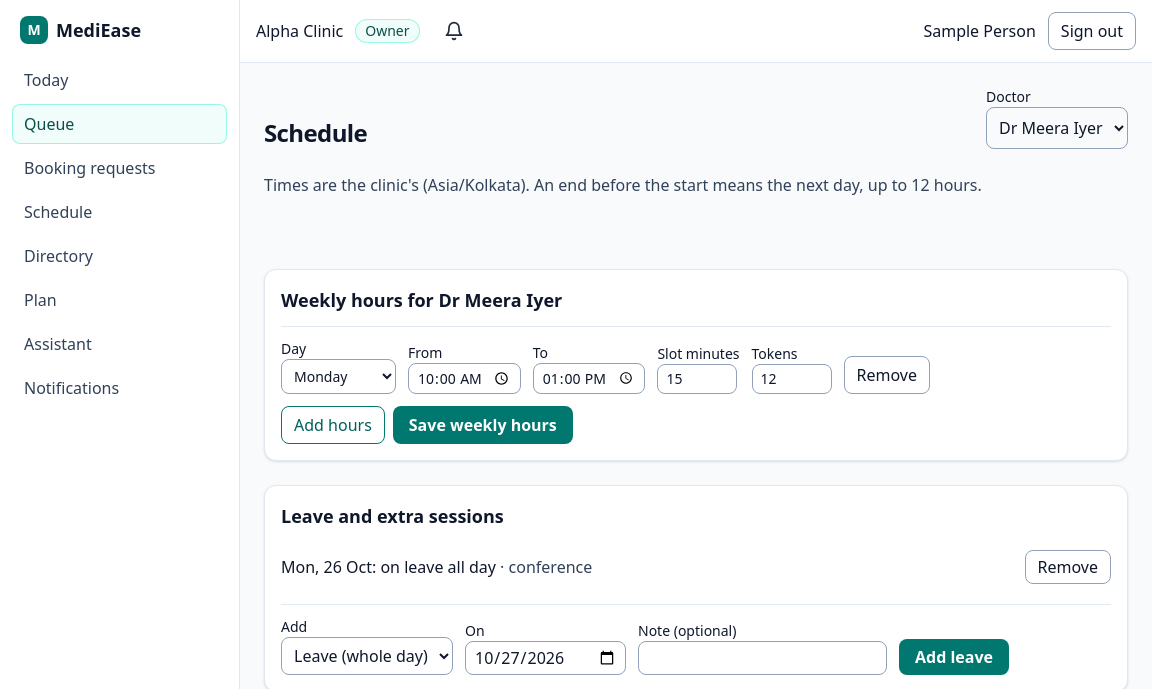
it: schedule settings (D31, FR-APT-01) › R16: edits the week and saves it whole; booked sessions kept are listed
Replace the text in the time field labelled "To" with "14:00" at (589, 379), box 533,363 -> 645,394
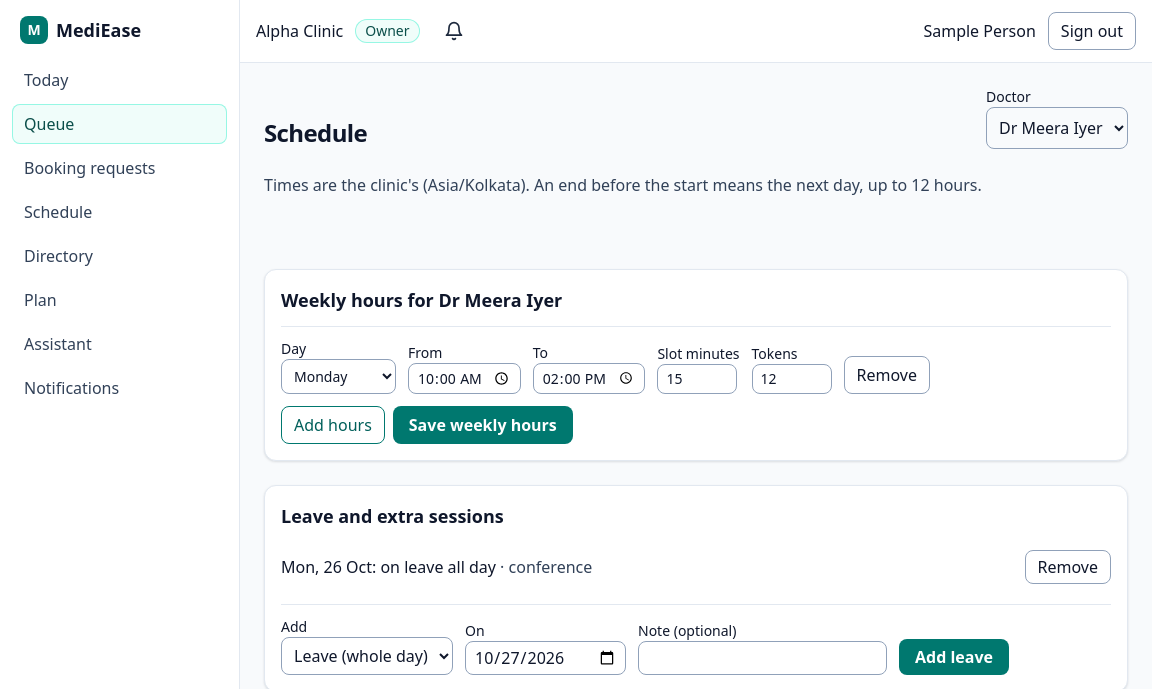
Click the button "Add hours" at (333, 425), box 281,406 -> 385,444
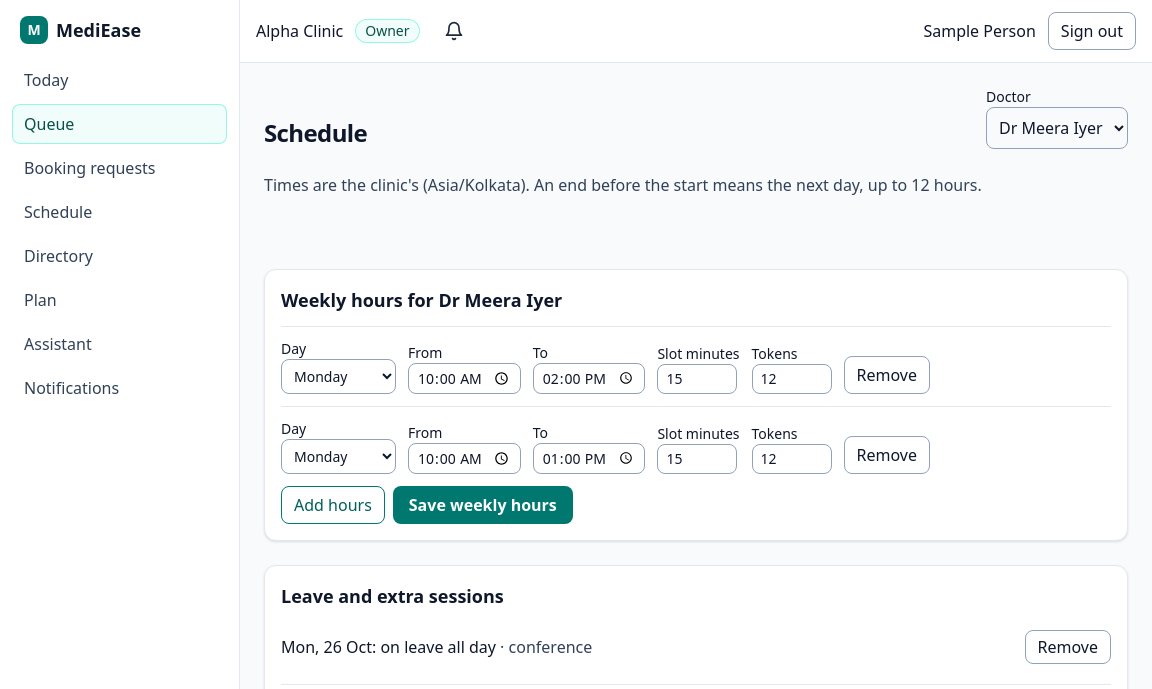
Select "Saturday" in the 2nd dropdown labelled "Day" at (338, 456), box 281,439 -> 396,474
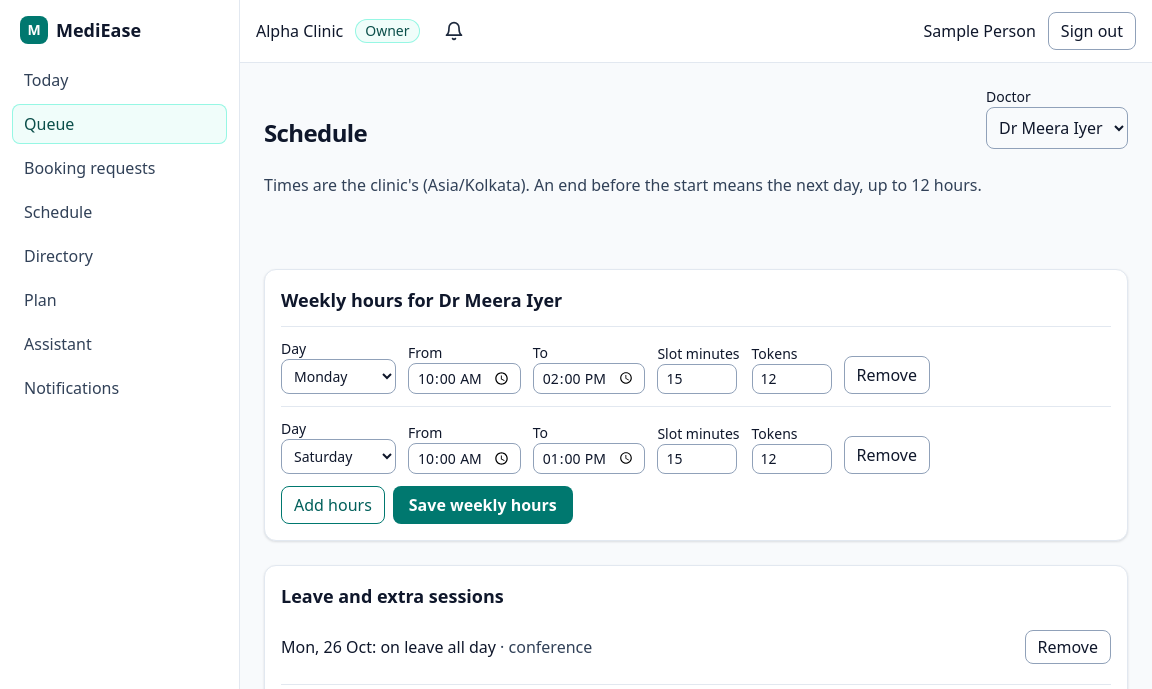
Click the button "Save weekly hours" at (483, 505), box 393,486 -> 573,524
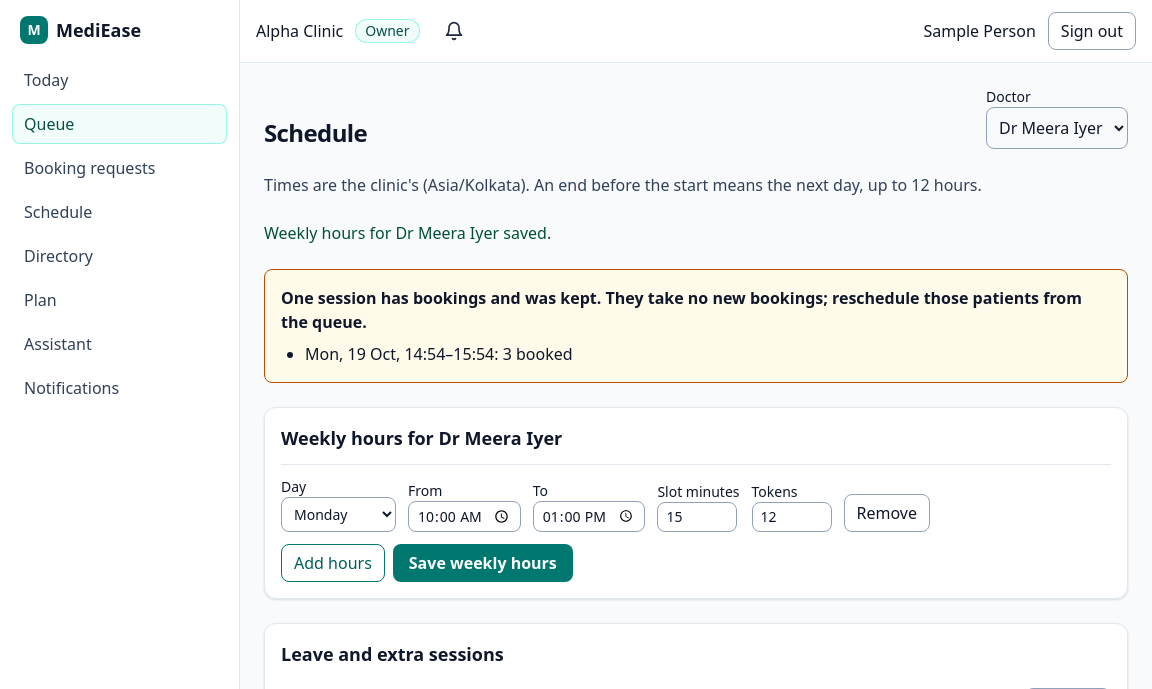
expect the text "Weekly hours for Dr Meera Iyer saved." is shown: met, box 264,222 -> 551,244
expect the text "One session has bookings and was kept" is shown: met, box 281,286 -> 1111,334
expect the list item "Mon, 19 Oct, 14:54–15:54: 3 booked" is shown: met, box 305,343 -> 573,365
